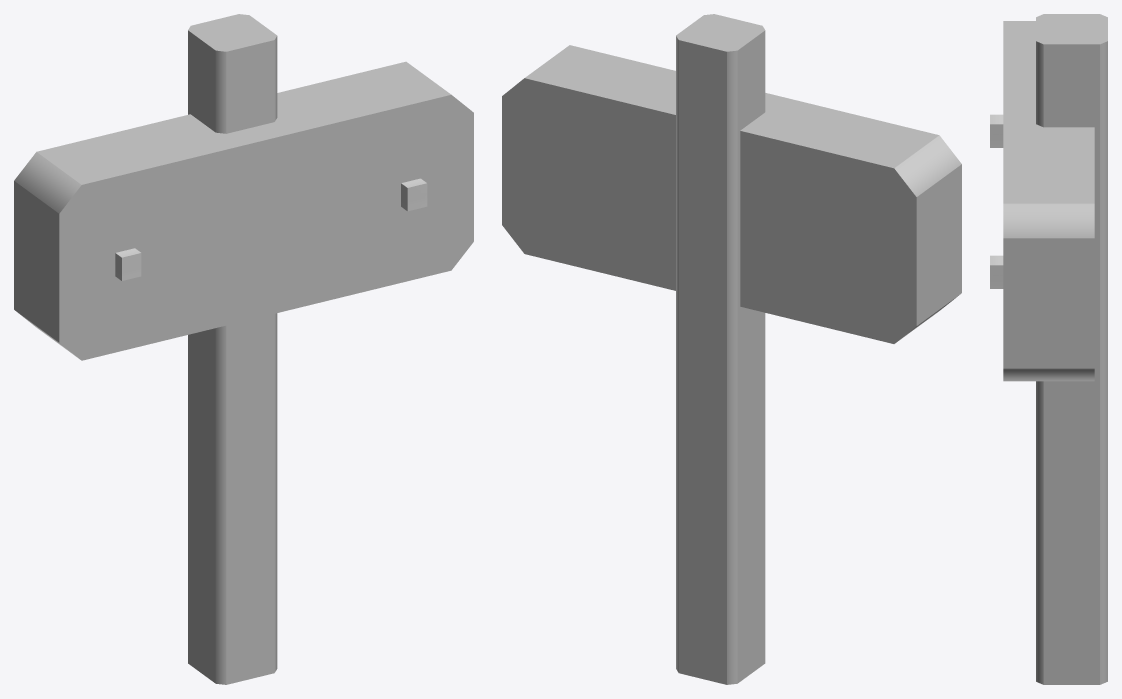
Rendered from pen_marker.obj.
3 renders of one model, left to right at view 1: azimuth 30°, elevation 25°; view 2: azimuth 150°, elevation 25°; view 3: azimuth 270°, elevation 25°, orthographic.
Parts seen in each view (by area): view 1: signboard, stake, right_fastener, left_fastener; view 2: signboard, stake; view 3: stake, signboard, left_fastener, right_fastener.
Boxes of the visible parts, x1,y1,x2,y2 form: signboard: (14, 61, 473, 360); stake: (188, 14, 277, 684); right_fastener: (401, 178, 427, 211); left_fastener: (115, 248, 141, 280); signboard: (502, 45, 961, 343); stake: (676, 14, 765, 684); stake: (1036, 14, 1107, 684); signboard: (1003, 21, 1094, 381); left_fastener: (990, 114, 1003, 147); right_fastener: (990, 255, 1003, 288).
Size of the model in its own units: 0.74 by 1.08 by 0.18.
